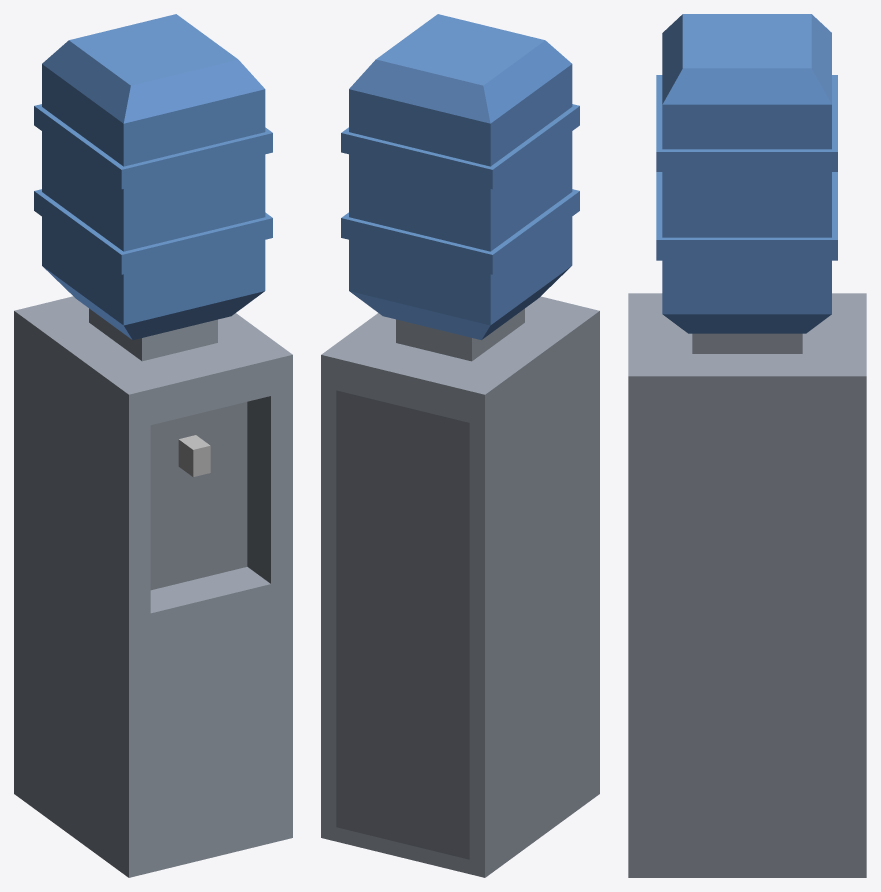
File: SO_WaterCooler_01.fbx
3 renders of one model, left to right at view 1: azimuth 30°, elevation 25°; view 2: azimuth 150°, elevation 25°; view 3: azimuth 270°, elevation 25°, orthographic. The views are drawn at different scales.
Parts seen in each view (by area): view 1: SO_WaterCooler_01, SO_WaterCooler_01.001; view 2: SO_WaterCooler_01, SO_WaterCooler_01.001; view 3: SO_WaterCooler_01, SO_WaterCooler_01.001.
Boxes of the visible parts, <box> form: SO_WaterCooler_01: <box>14,296,292,877</box>; SO_WaterCooler_01.001: <box>34,14,272,339</box>; SO_WaterCooler_01: <box>321,296,599,877</box>; SO_WaterCooler_01.001: <box>341,14,579,340</box>; SO_WaterCooler_01: <box>628,293,866,877</box>; SO_WaterCooler_01.001: <box>656,14,837,333</box>.
Bounding box in the file's own units: 0.00661 × 0.0295 × 0.00801.
